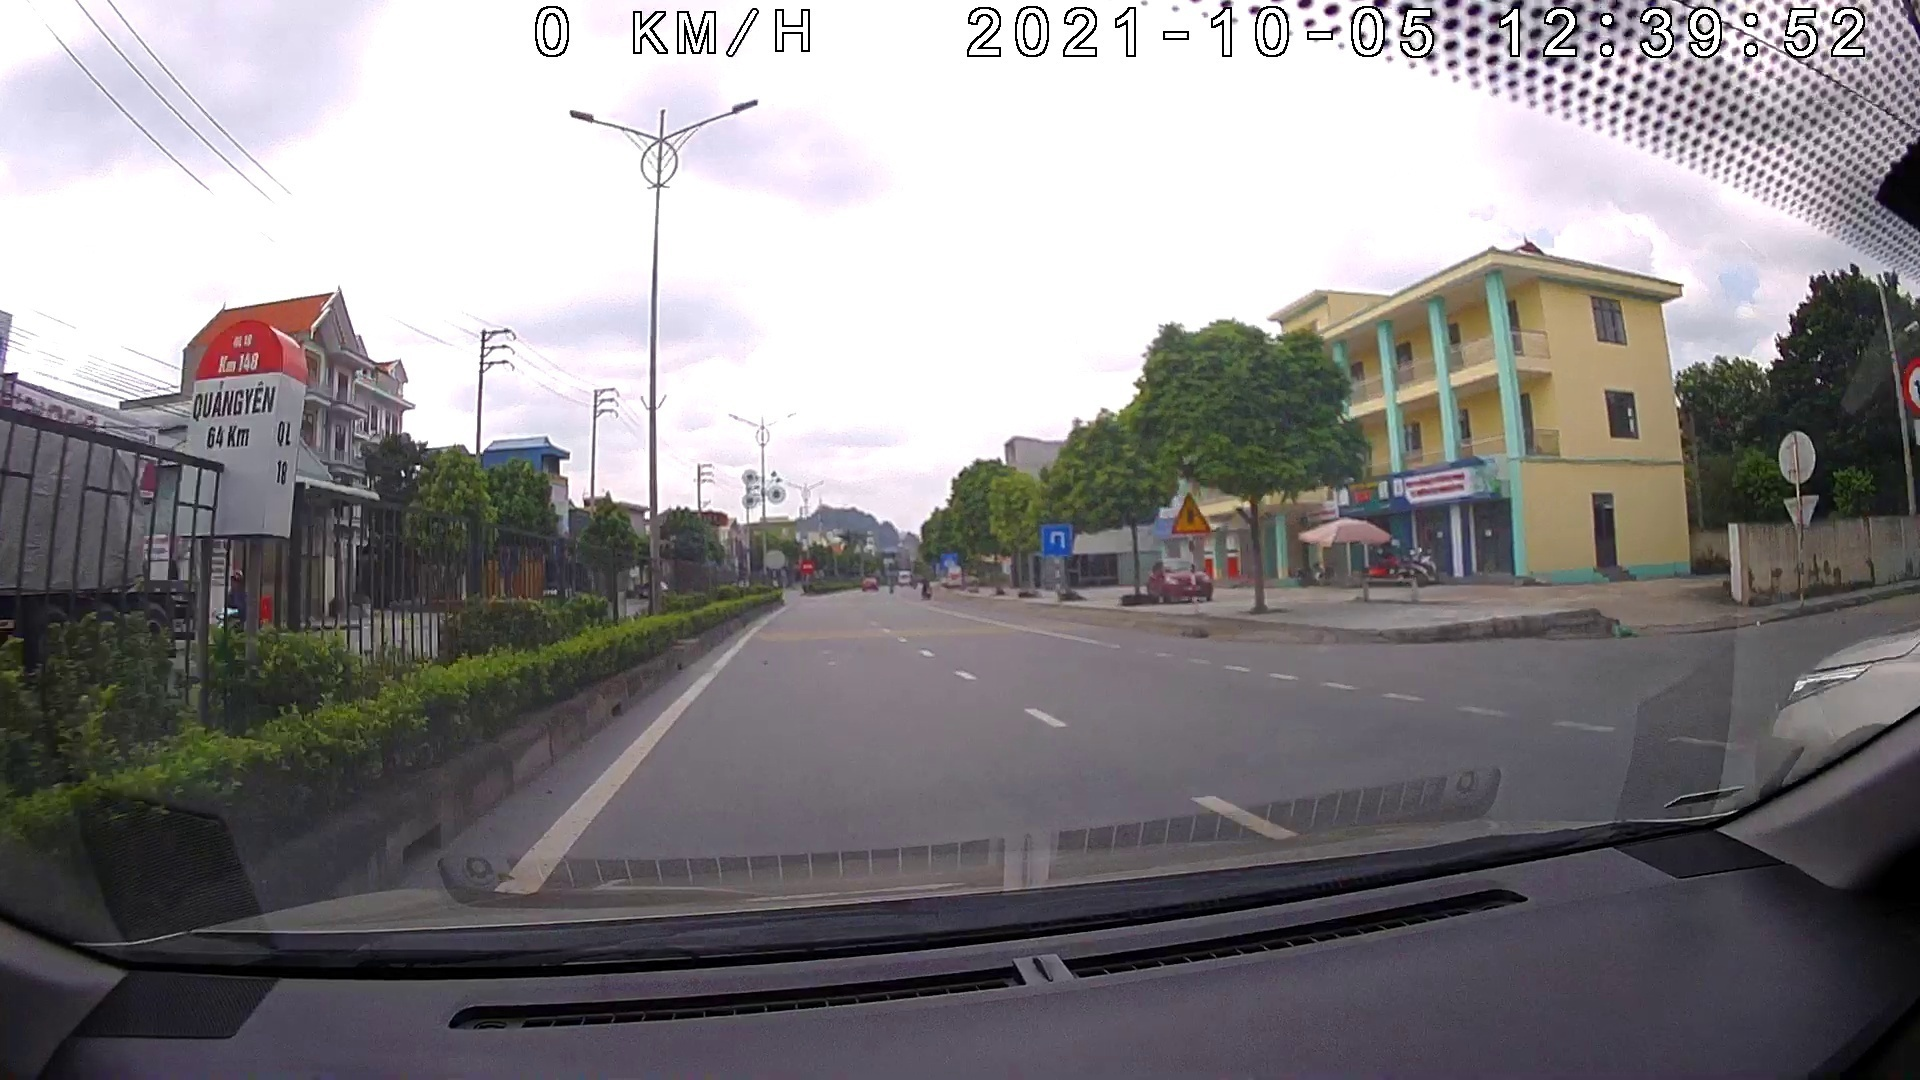Bien khac: (1038, 524, 1073, 556)
Cam di nguoc chieu: (799, 556, 815, 574)
Giao nhau voi duong khong uu tien: (1171, 491, 1211, 535)
